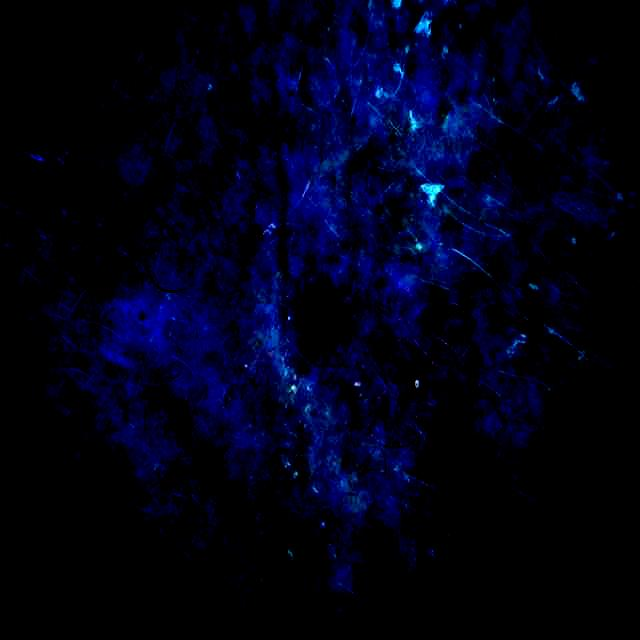VASC: (0, 60, 153, 346), (298, 284, 348, 351)
